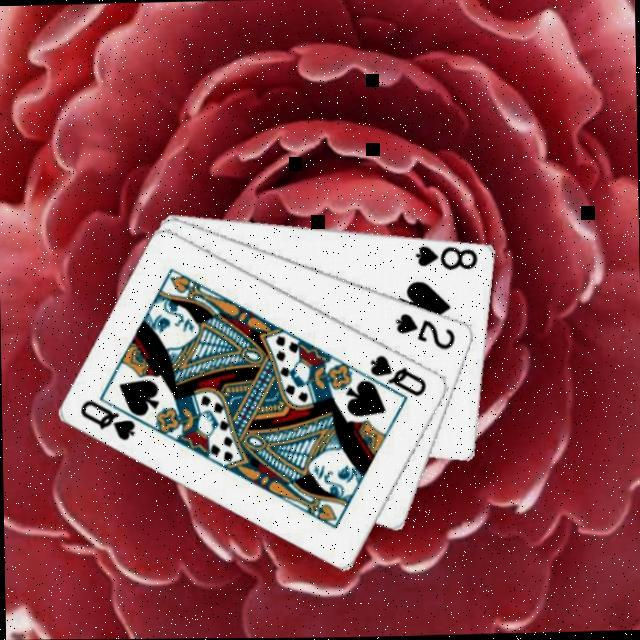2S: (394, 310, 461, 355)
8S: (413, 243, 483, 276)
QS: (369, 352, 432, 402), (80, 397, 141, 445)
